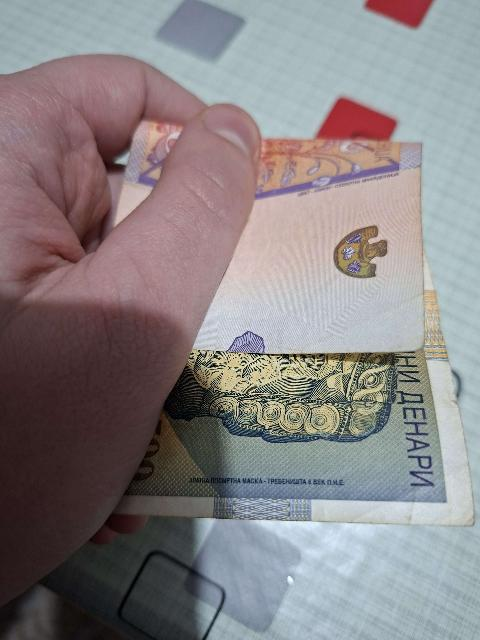note: (117, 136, 477, 534)
